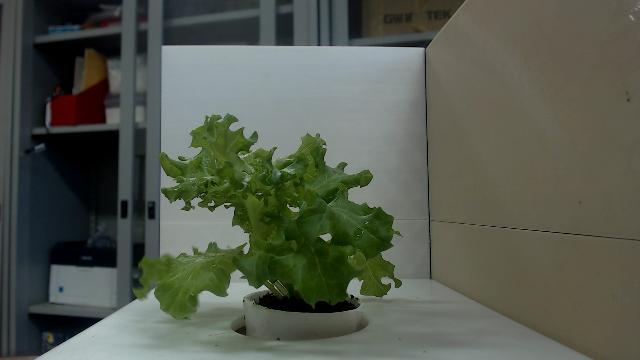Harvest Stage: (133, 111, 403, 320)
